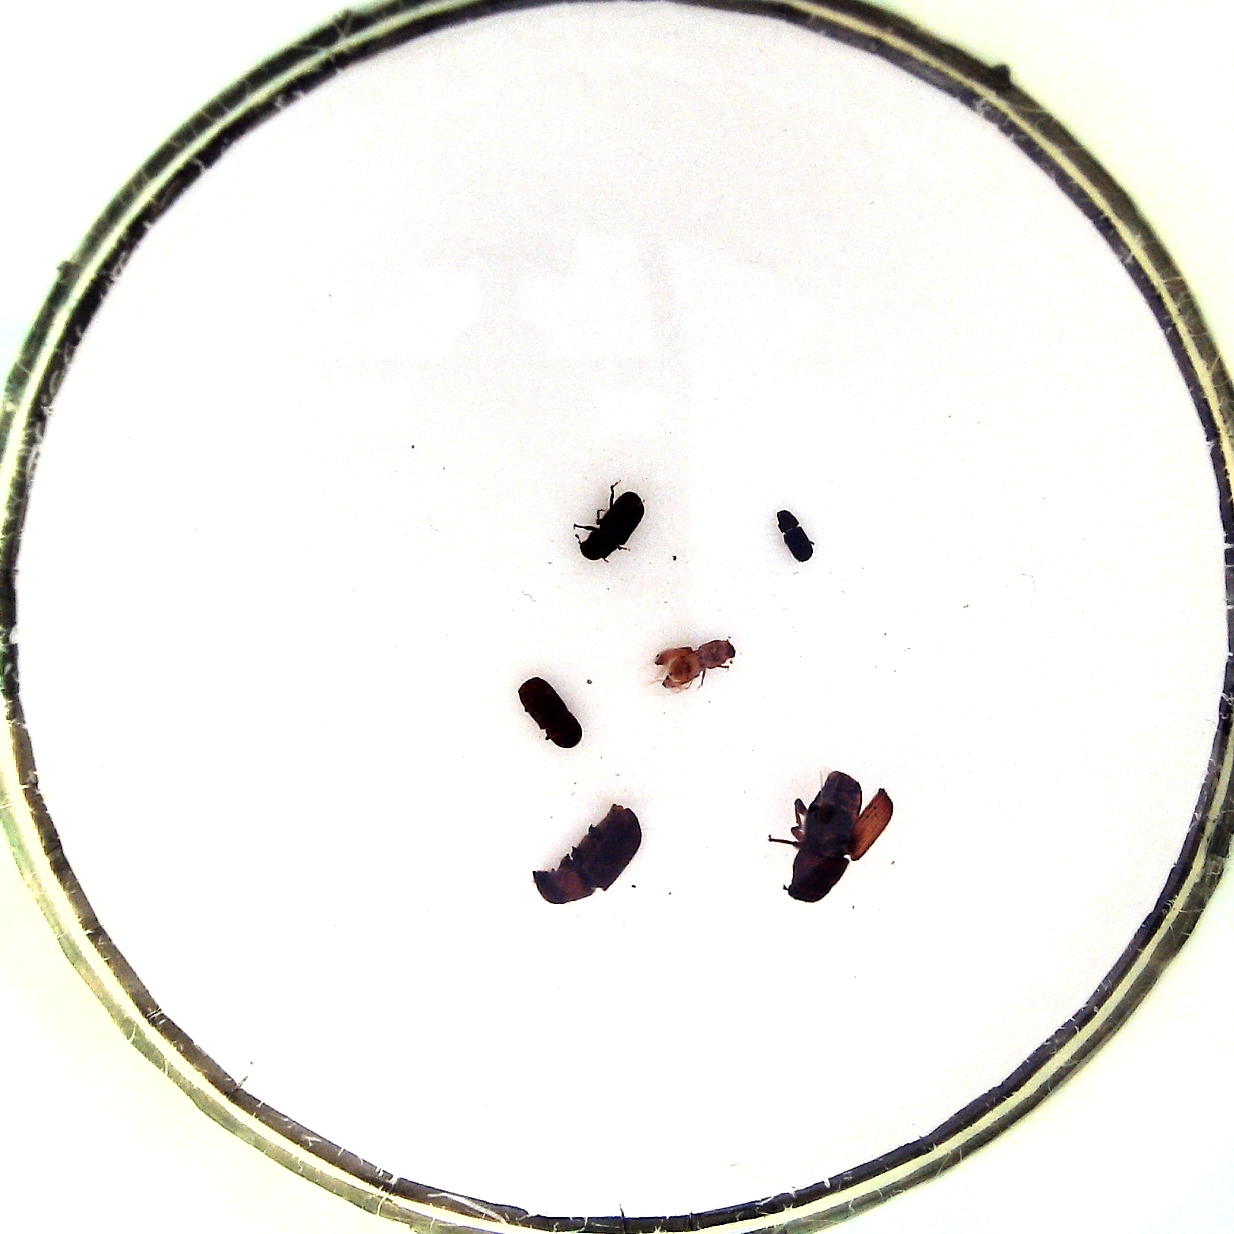Leconte: (762, 772, 895, 909), (528, 798, 644, 910)
Linnaeus: (515, 670, 585, 756)
acuminatus: (651, 629, 746, 690)
armandi: (574, 480, 651, 567)
coleoptera: (770, 509, 822, 567)
